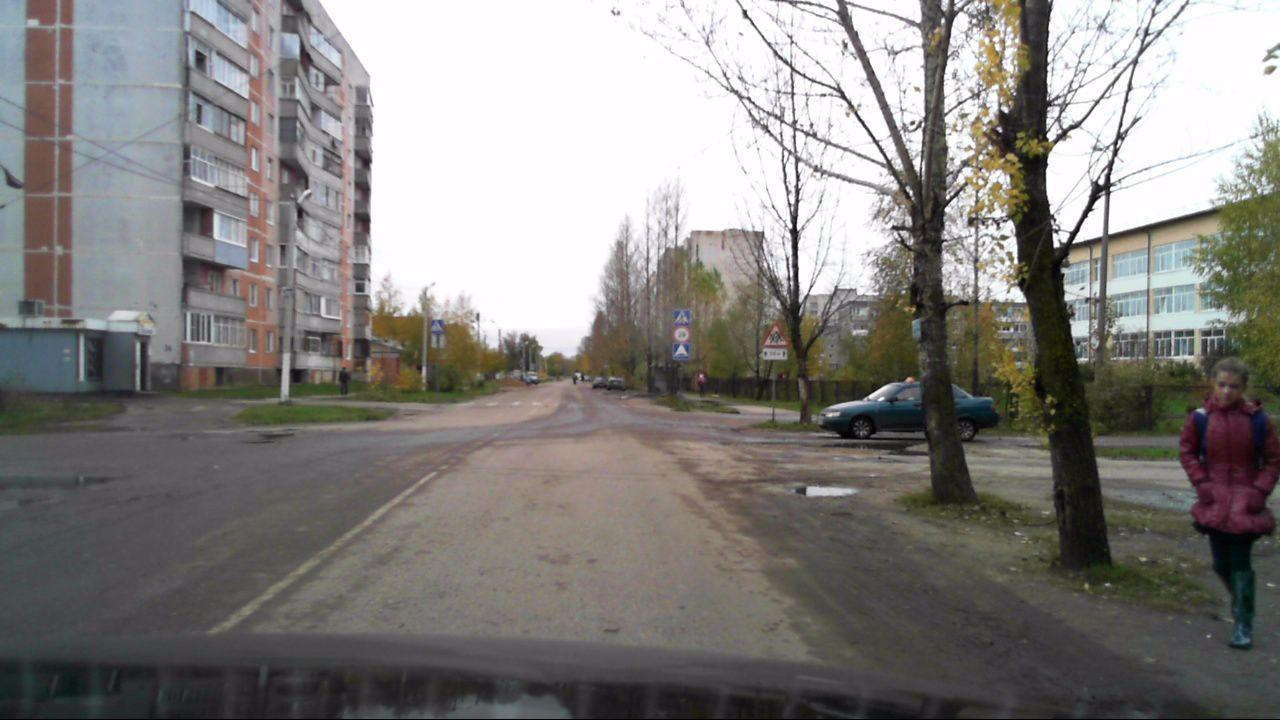road_sign: (758, 320, 791, 347), (672, 307, 692, 326), (670, 342, 690, 360), (673, 326, 689, 343)
